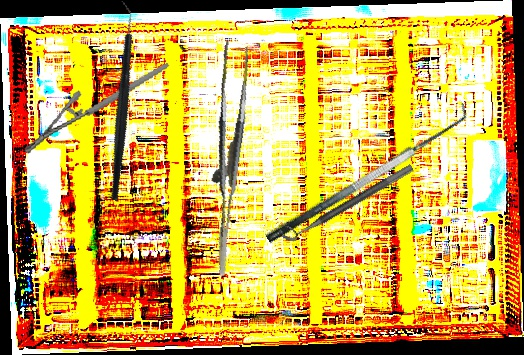Chopper: (42, 0, 196, 202)
Fixation Ring: (276, 152, 415, 246)
Needle Holder: (11, 62, 182, 156)
Spatula Surgical: (255, 98, 476, 245)
Tissue Forceps: (178, 39, 273, 277)
